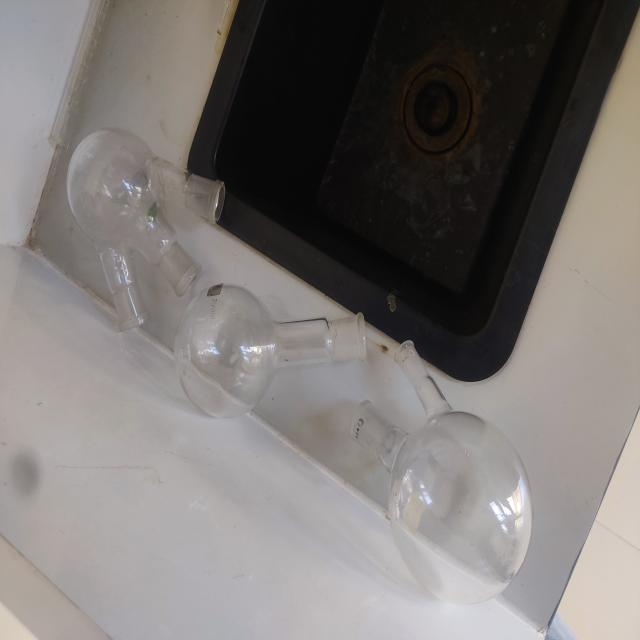Round_Bottom_Flask_Borosilicate_Glass_1_Neck: (151, 230, 382, 440)
Round_Bottom_Flask_Borosilicate_Glass_2_Neck: (327, 316, 559, 618)
Round_Bottom_Flask_Borosilicate_Glass_3_Neck: (48, 96, 244, 364)
